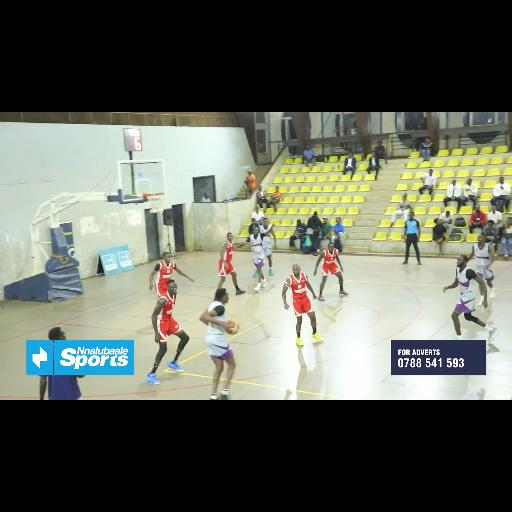basketball: (223, 318, 241, 338)
hoop: (146, 192, 166, 212)
player: (442, 256, 500, 348), (199, 286, 241, 400), (144, 282, 190, 386), (280, 264, 322, 346), (316, 241, 346, 309), (473, 234, 497, 310), (150, 250, 180, 310), (216, 232, 242, 292), (256, 220, 280, 276), (249, 227, 267, 295)
referee: (401, 210, 423, 266)
shot-clock: (122, 128, 146, 154)
